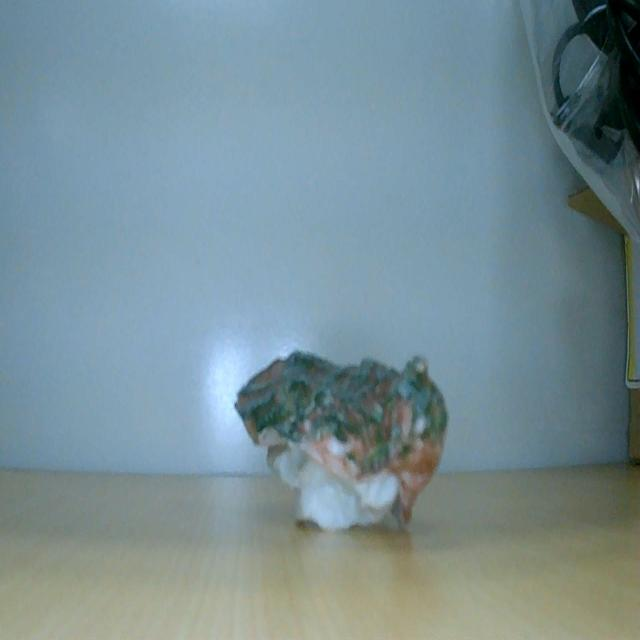oyster: (236, 351, 448, 529)
